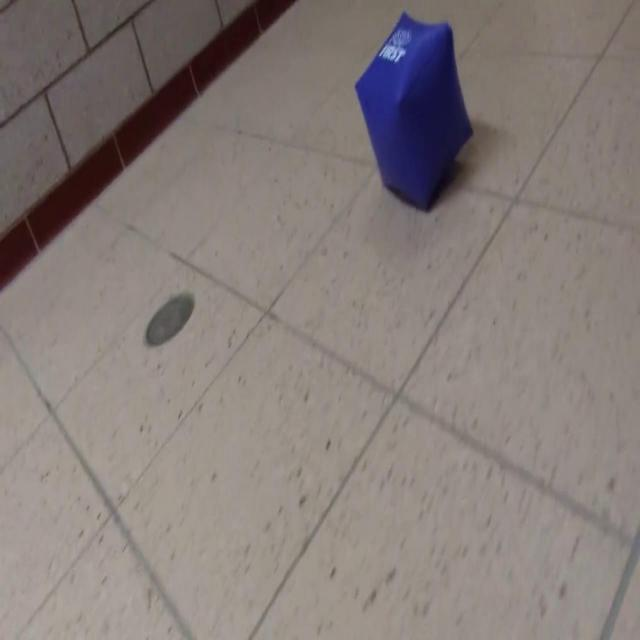frc_cube: (354, 11, 474, 210)
